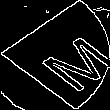M_NW: (7, 21, 103, 89)
